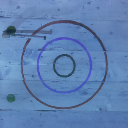Axe Tip: (3, 32, 14, 34)
